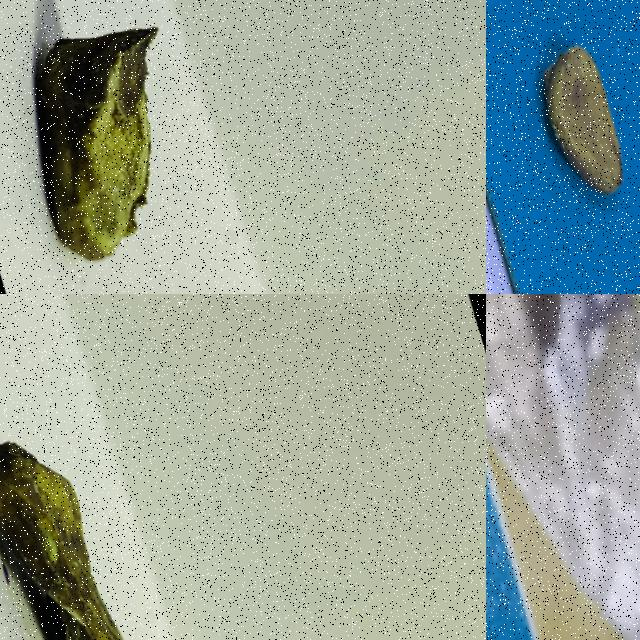Flat_cocoabeans: (0, 0, 257, 293), (0, 340, 204, 639), (486, 0, 639, 293)
